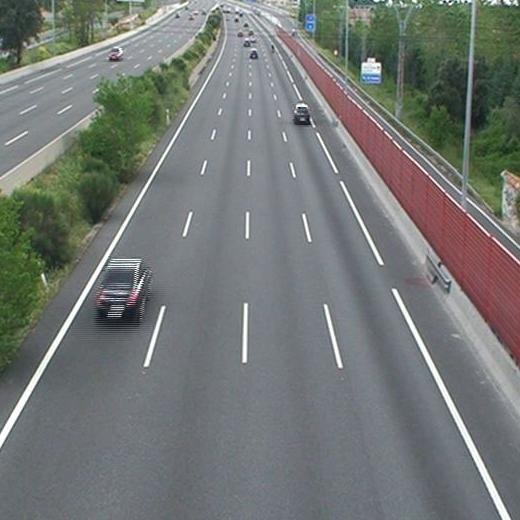car: (97, 259, 149, 317), (293, 104, 311, 122), (250, 50, 258, 59)
